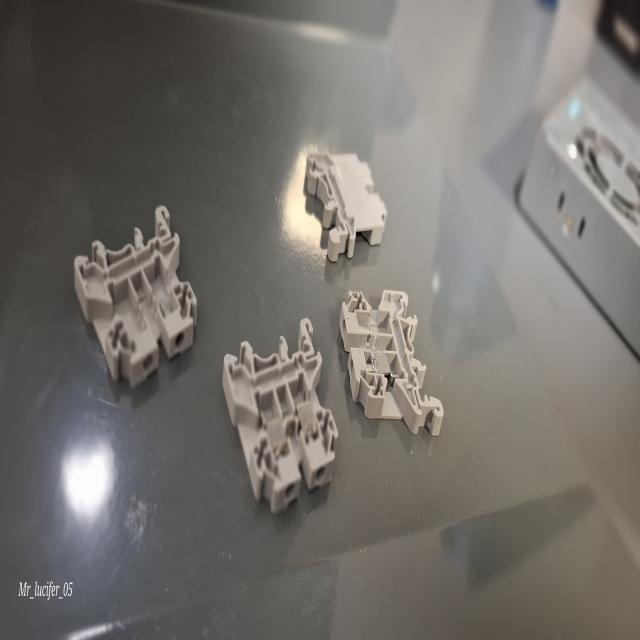Inverted: (304, 148, 388, 264)
Pass: (222, 314, 338, 516)
Reject: (72, 198, 198, 387), (341, 284, 444, 438)
